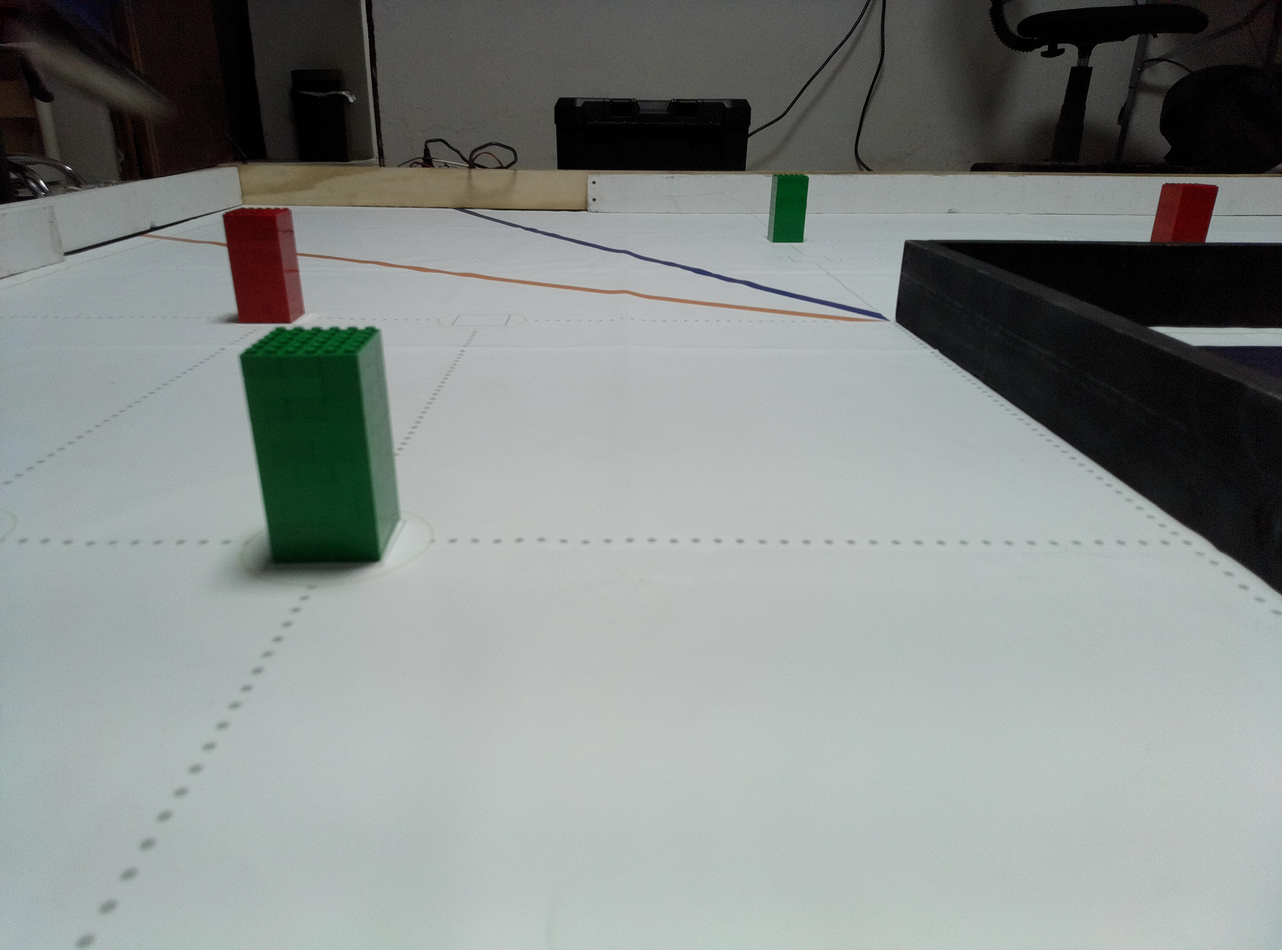greenbox: (239, 327, 402, 566), (767, 173, 811, 243)
redbox: (221, 208, 306, 324), (1149, 182, 1220, 242)
